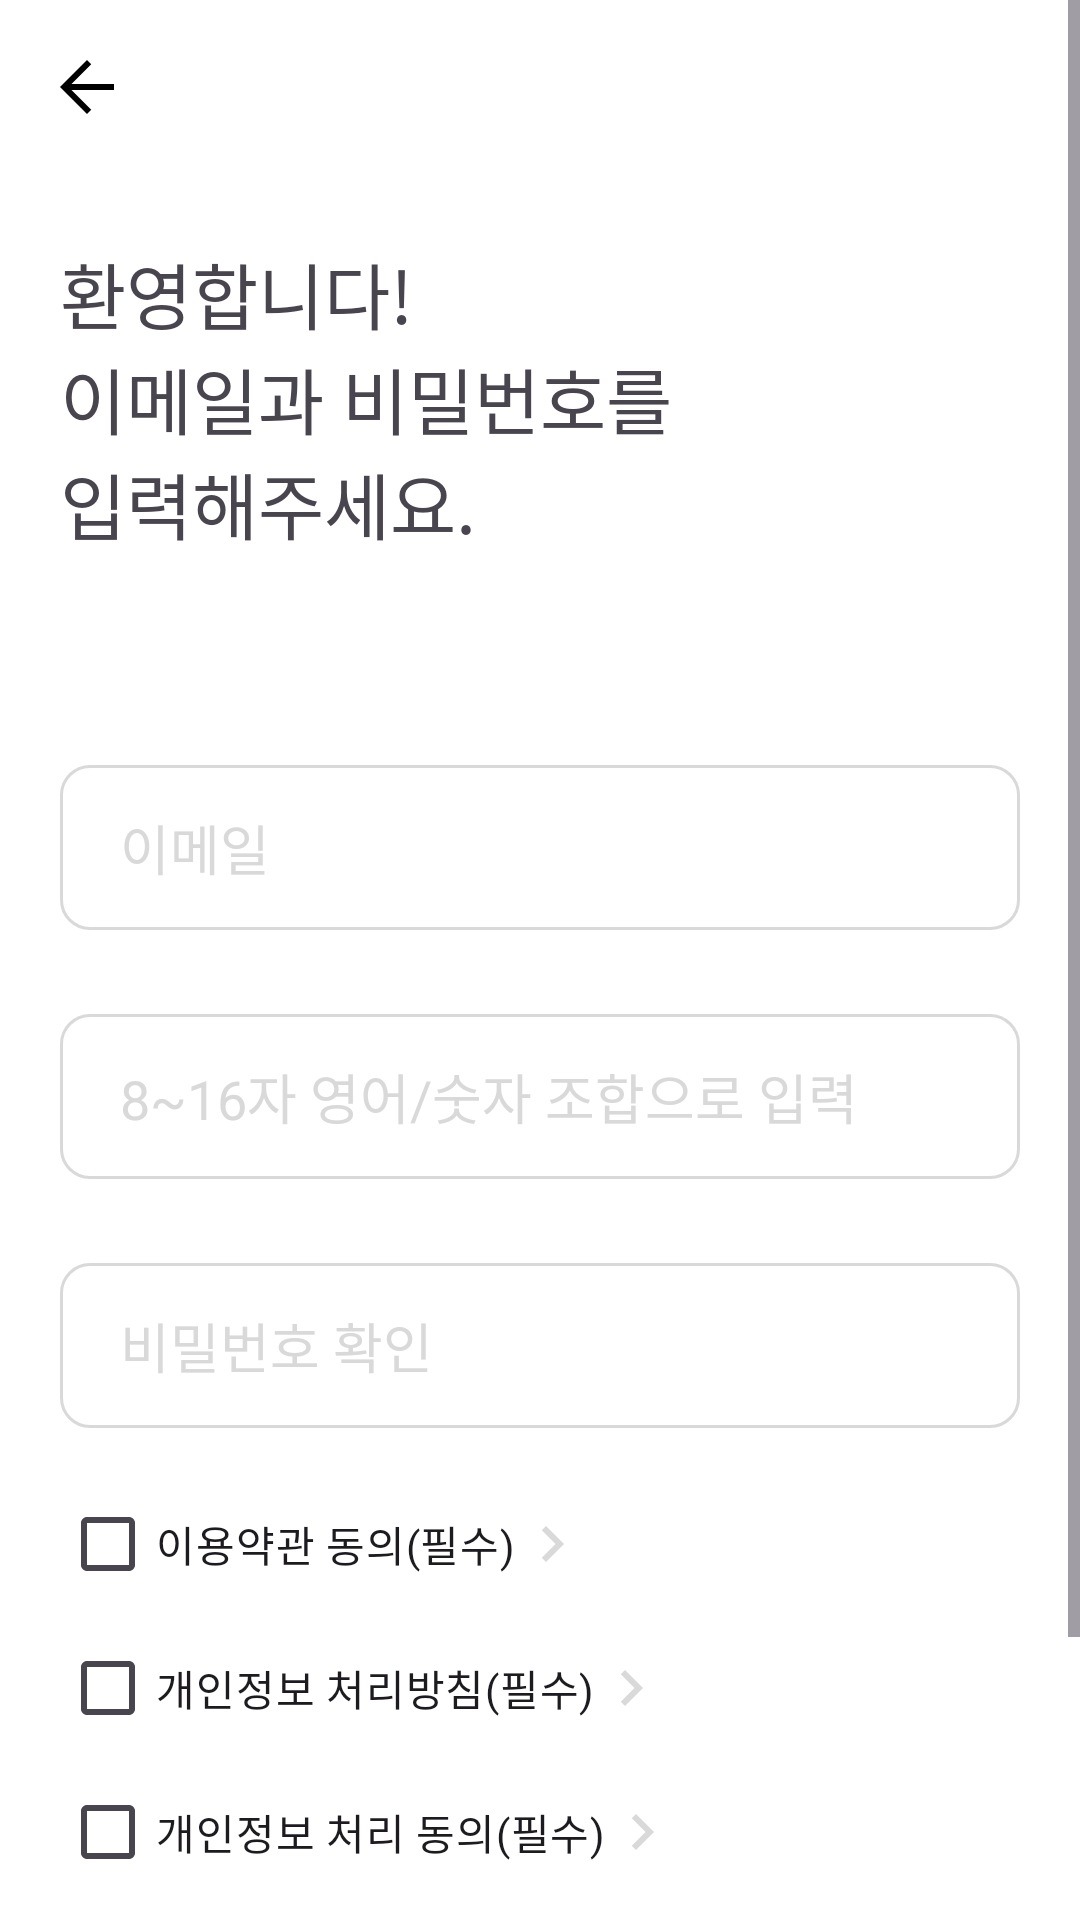

Point at icon controls on the screen. Image size 1080*1920, points as (x,y).
back: (87,87)
chevron right: (552,1544), (631,1688), (642,1832)
